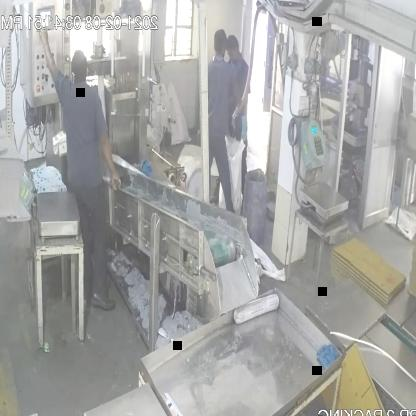no_glove: (98, 124, 122, 200), (36, 13, 56, 88)
